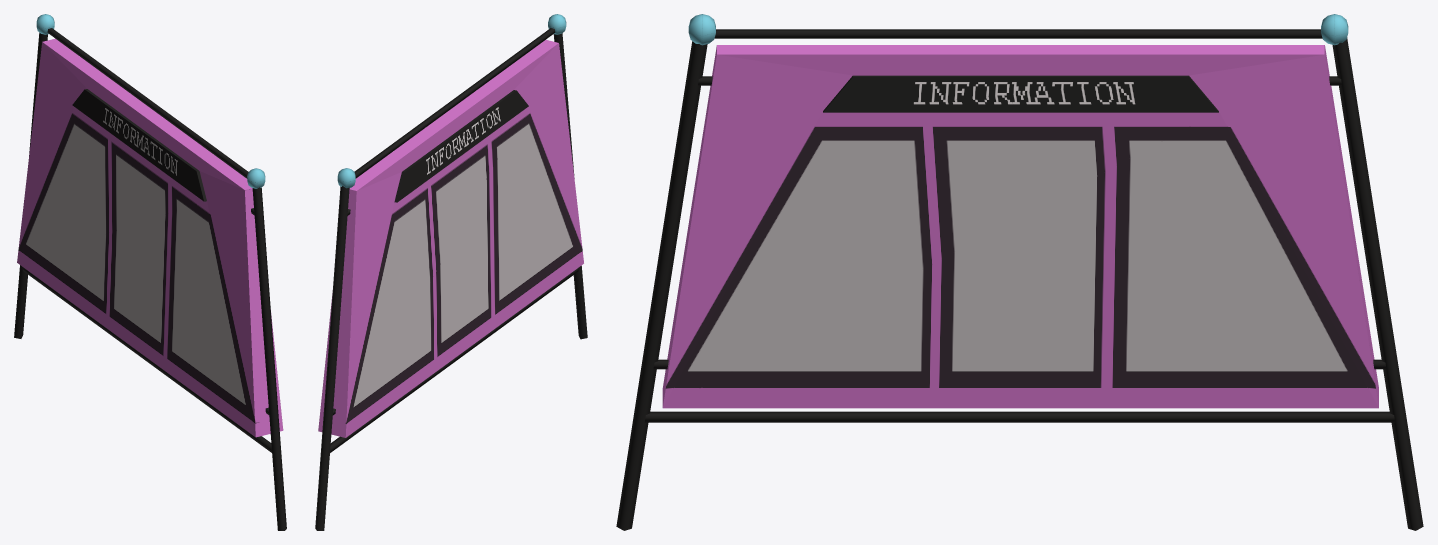
3 renders of one model, left to right at view 1: azimuth 30°, elevation 25°; view 2: azimuth 150°, elevation 25°; view 3: azimuth 270°, elevation 25°, orthographic. The views are drawn at different scales.
Parts seen in each view (by area): view 1: pCube33; view 2: pCube33; view 3: pCube33.
Boxes of the visible parts, x1,y1,x2,y2 form: pCube33: (14,14,286,530); pCube33: (315,14,587,530); pCube33: (616,14,1423,530).
Size of the model in its own units: 3.04 by 35.99 by 51.29.
Materials: 1 (1 with a texture image).
